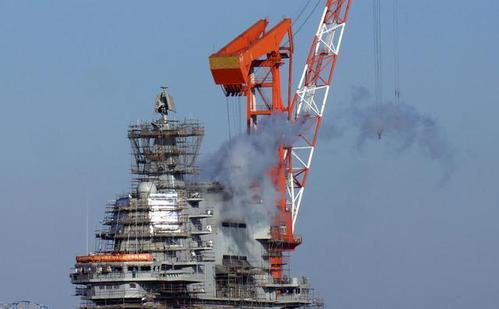smoke: (188, 93, 450, 184)
